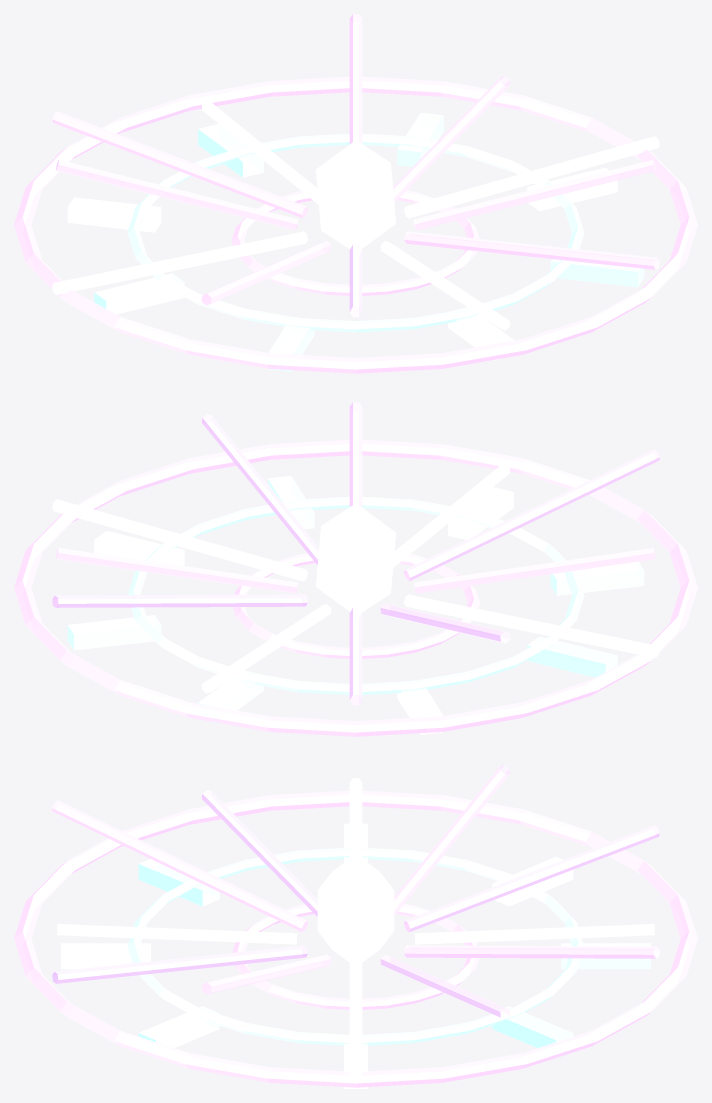
Rendered from self_aoe.glb.
3 views of the same model, one above another, from view 1: azimuth 30°, elevation 25°; view 2: azimuth 150°, elevation 25°; view 3: azimuth 270°, elevation 25° (orthographic).
Visible parts, largest first — view 1: RadialWave_2, RadialWave_1, RadialCore, RadialWave_0, RadialBurst_4, RadialBurst_0, RadialBurst_6, RadialBurst_10, RadialBurst_5, RadialBurst_11, RadialRune_3, RadialBurst_1 (+12 smaller); view 2: RadialWave_2, RadialWave_1, RadialCore, RadialWave_0, RadialBurst_8, RadialBurst_0, RadialBurst_6, RadialBurst_2, RadialBurst_1, RadialBurst_7, RadialBurst_11, RadialRune_1 (+12 smaller); view 3: RadialWave_2, RadialWave_1, RadialCore, RadialWave_0, RadialBurst_8, RadialBurst_4, RadialBurst_10, RadialBurst_2, RadialBurst_3, RadialBurst_9, RadialBurst_5, RadialBurst_7 (+10 smaller).
Boxes of the visible parts, x1,y1,x2,y2 form: RadialWave_2: (14, 76, 697, 373); RadialWave_1: (127, 133, 584, 332); RadialCore: (316, 140, 395, 248); RadialWave_0: (231, 190, 479, 295); RadialBurst_4: (52, 111, 307, 218); RadialBurst_0: (404, 136, 659, 218); RadialBurst_6: (52, 231, 307, 294); RadialBurst_10: (404, 231, 659, 269); RadialBurst_5: (55, 160, 298, 230); RadialBurst_11: (413, 160, 656, 230); RadialRune_3: (67, 197, 161, 232); RadialBurst_1: (393, 76, 510, 202); RadialWave_2: (14, 439, 697, 736); RadialWave_1: (128, 496, 584, 694); RadialCore: (316, 503, 395, 612); RadialWave_0: (233, 553, 480, 658); RadialBurst_8: (404, 449, 659, 580); RadialBurst_0: (52, 499, 307, 581); RadialBurst_6: (404, 594, 659, 657); RadialBurst_2: (52, 594, 307, 607); RadialBurst_1: (56, 548, 297, 593); RadialBurst_7: (414, 548, 655, 593); RadialBurst_11: (201, 414, 318, 564); RadialRune_1: (67, 615, 161, 650); RadialWave_2: (14, 790, 697, 1087); RadialWave_1: (127, 847, 583, 1045); RadialCore: (317, 854, 394, 962); RadialWave_0: (232, 904, 478, 1009); RadialBurst_8: (52, 800, 307, 931); RadialBurst_4: (404, 825, 659, 932); RadialBurst_10: (52, 945, 307, 983); RadialBurst_2: (404, 945, 659, 958); RadialBurst_3: (414, 924, 654, 944); RadialBurst_9: (57, 924, 297, 944); RadialBurst_5: (394, 765, 510, 915); RadialBurst_7: (201, 790, 317, 916).
Bounding box in the file's own units: 1.92 × 0.3456 × 1.89.
